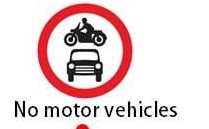Traffic signal: (35, 2, 134, 100)
